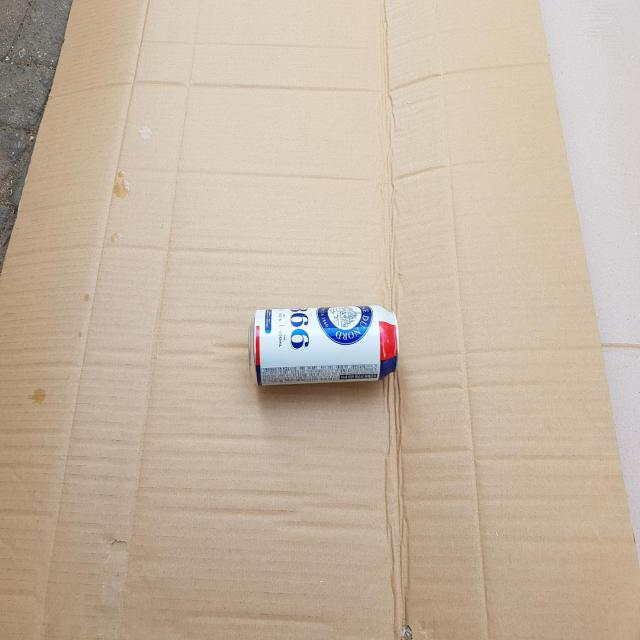can: (249, 305, 399, 386)
